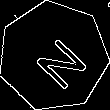N_NW: (21, 24, 86, 88)
